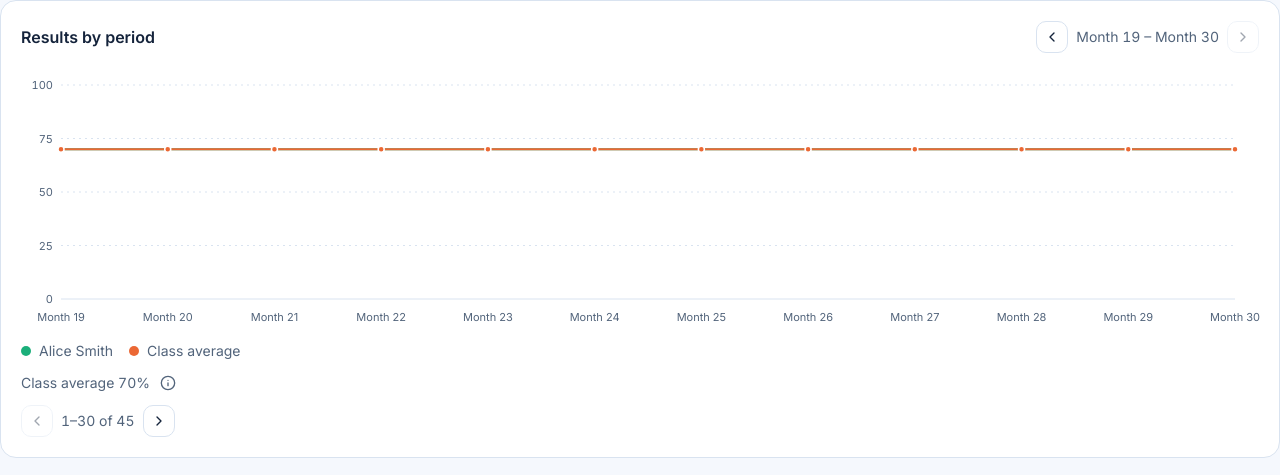
Test case: CourseProgressChartPanel › pages student series when the roster has more than one page
Expected: the button named "Previous students" is disabled, [21,405,53,437]
Click the button named "Next students". click: x=158, y=421
box: [142,405,174,437]
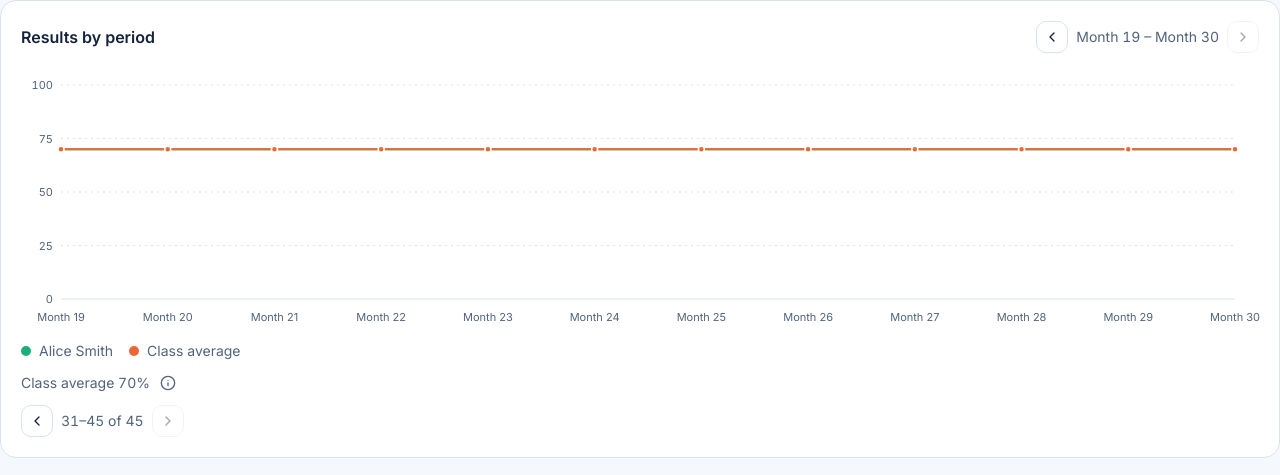
Expected: the button named "Previous students" is enabled, [21,405,53,437]
Expected: the button named "Next students" is disabled, [152,405,184,437]
